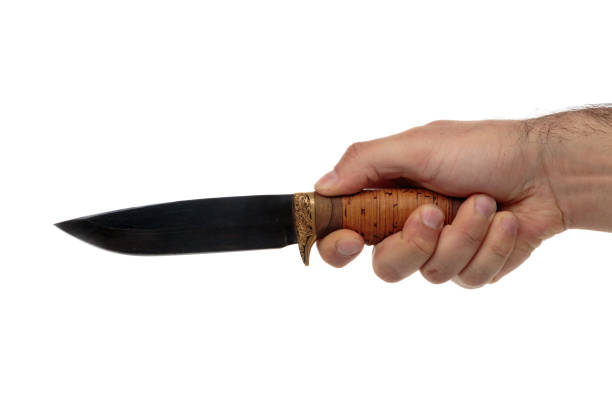knife: (49, 183, 471, 269)
